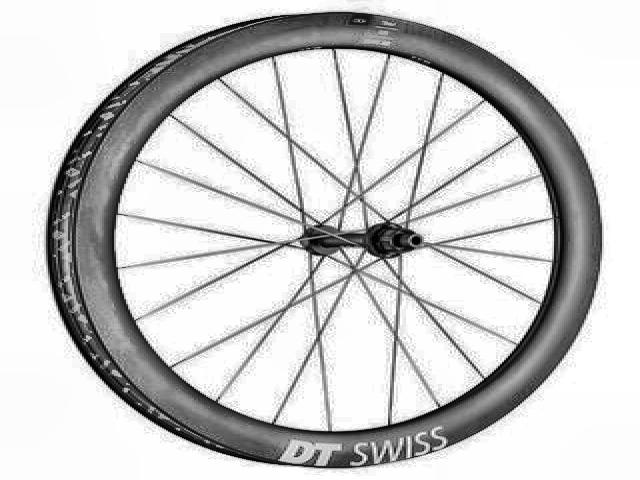wheel: (33, 6, 613, 471)
